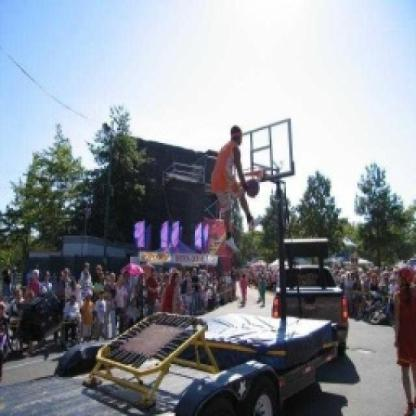basketball: (244, 176, 262, 200)
